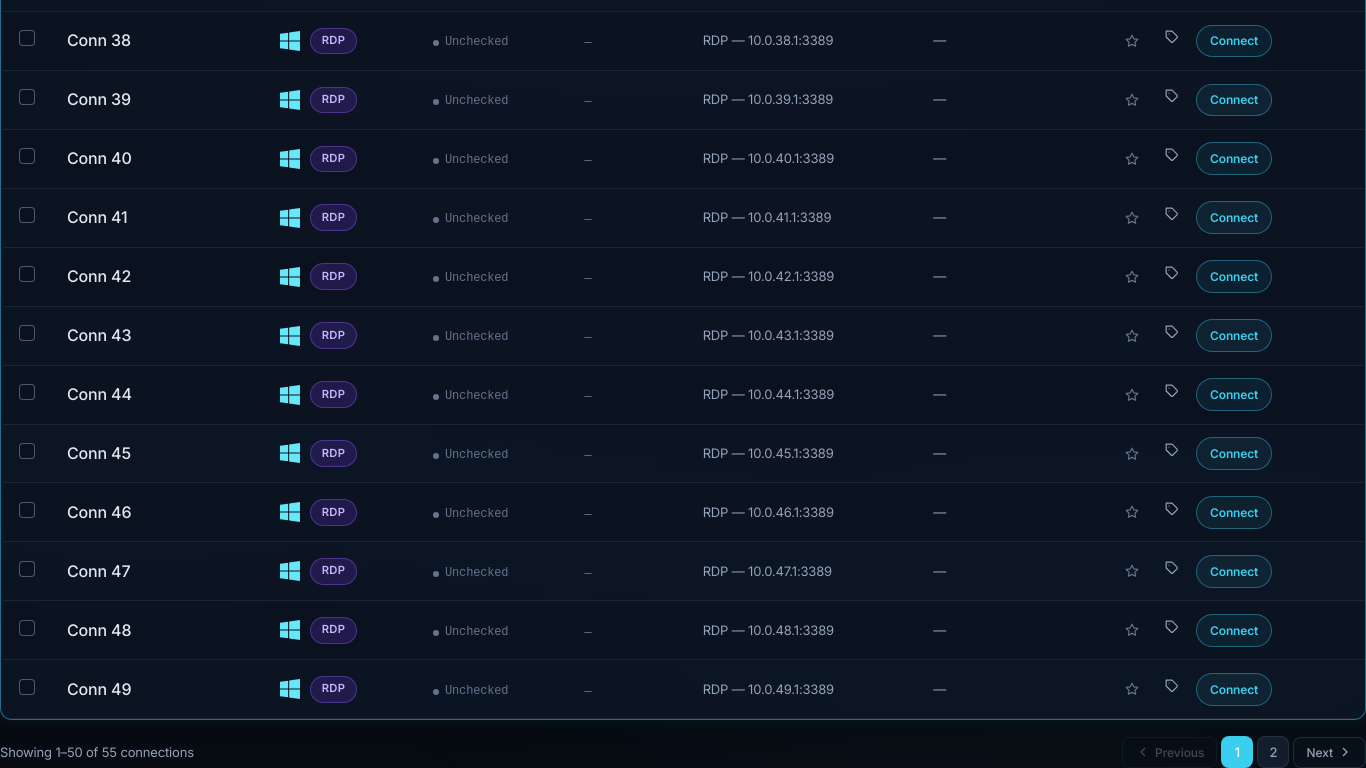
Test: Dashboard › navigates to next page
(page scrolled)
Click the button "Next" at (1330, 752), box left=1293, top=737, right=1365, bottom=767
(page scrolled)
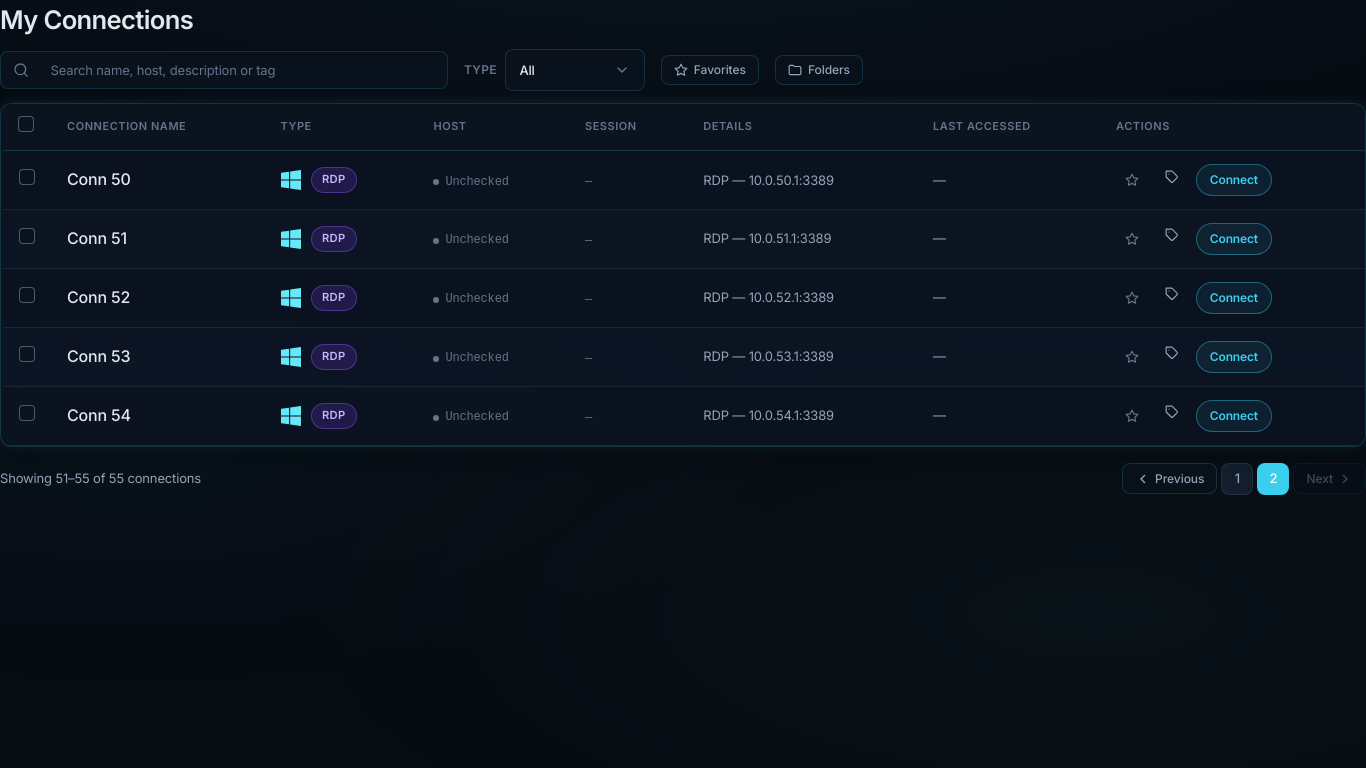
Now the text "Conn 50" is shown, box left=67, top=169, right=131, bottom=189
